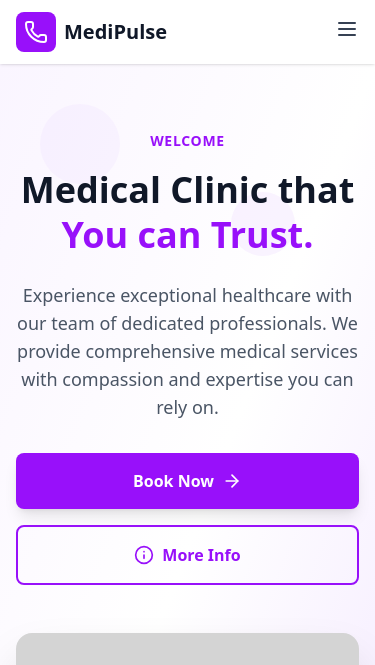
Navbar Component › renders correctly for regular user (desktop + mobile)
The image size is (375, 665).
What coordinates should you click on to do the following:
click the button with test id "mobile-menu-button"
I would click on:
 (347, 29)
Its box is left=335, top=17, right=359, bottom=41.
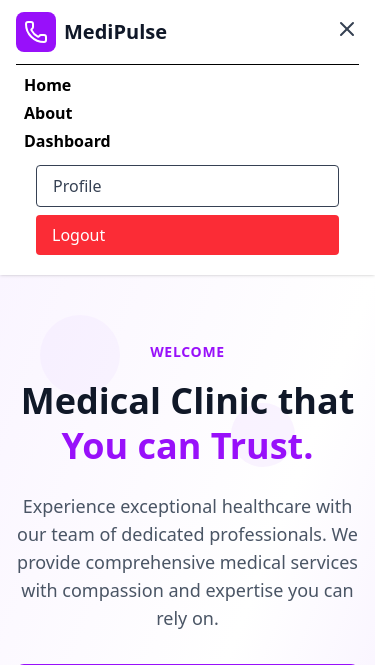
Now the link with test id "mobile-home" is shown, box left=24, top=74, right=71, bottom=96
Now the link with test id "mobile-about" is shown, box left=24, top=102, right=73, bottom=124
Now the link with test id "mobile-dashboard" is shown, box left=24, top=130, right=111, bottom=152
